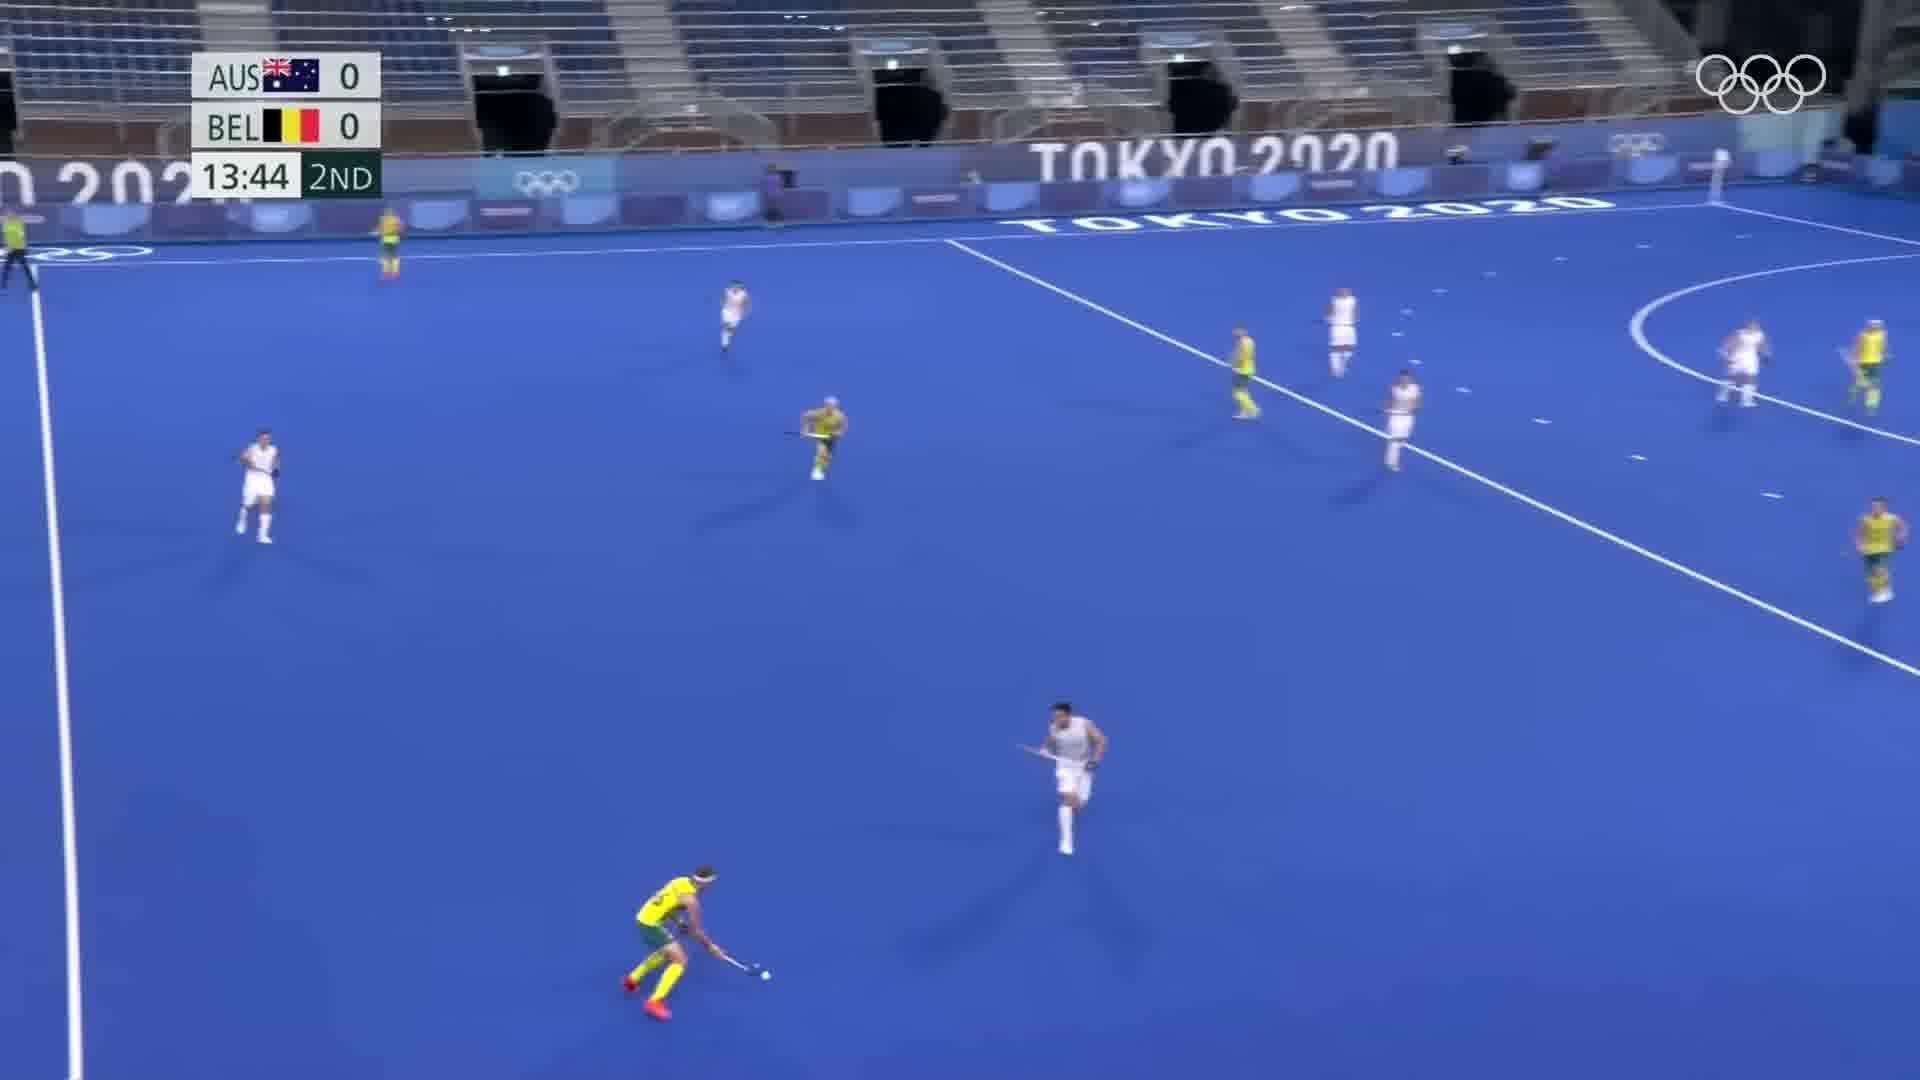ball: (758, 964, 777, 988)
